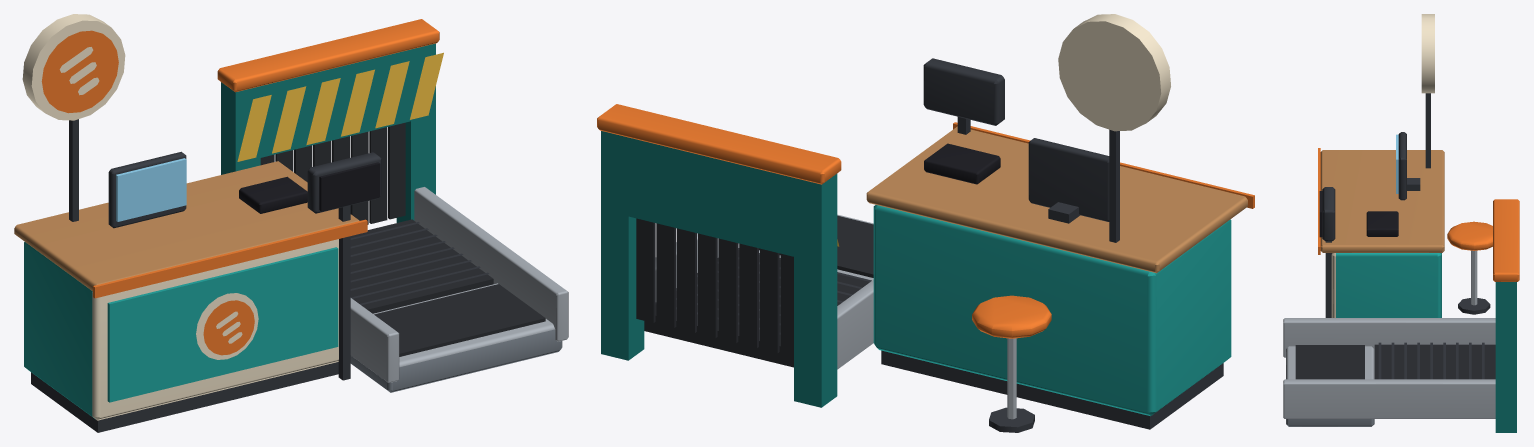
The model's file is Facturacion.fbx.
The picture shows the model from 3 angles, left to right: view 1: azimuth 30°, elevation 25°; view 2: azimuth 150°, elevation 25°; view 3: azimuth 270°, elevation 25°; orthographic projection. The views are drawn at different scales.
Parts seen in each view (by area): view 1: Facturacion; view 2: Facturacion; view 3: Facturacion.
Part boxes in pixels (x1,y1,x2,y2): Facturacion: (14,14,568,432); Facturacion: (597,14,1254,432); Facturacion: (1283,14,1519,432).
Bounding box in the file's own units: 7.45 × 5.5 × 4.4.
Materials: 1 (1 with a texture image).
